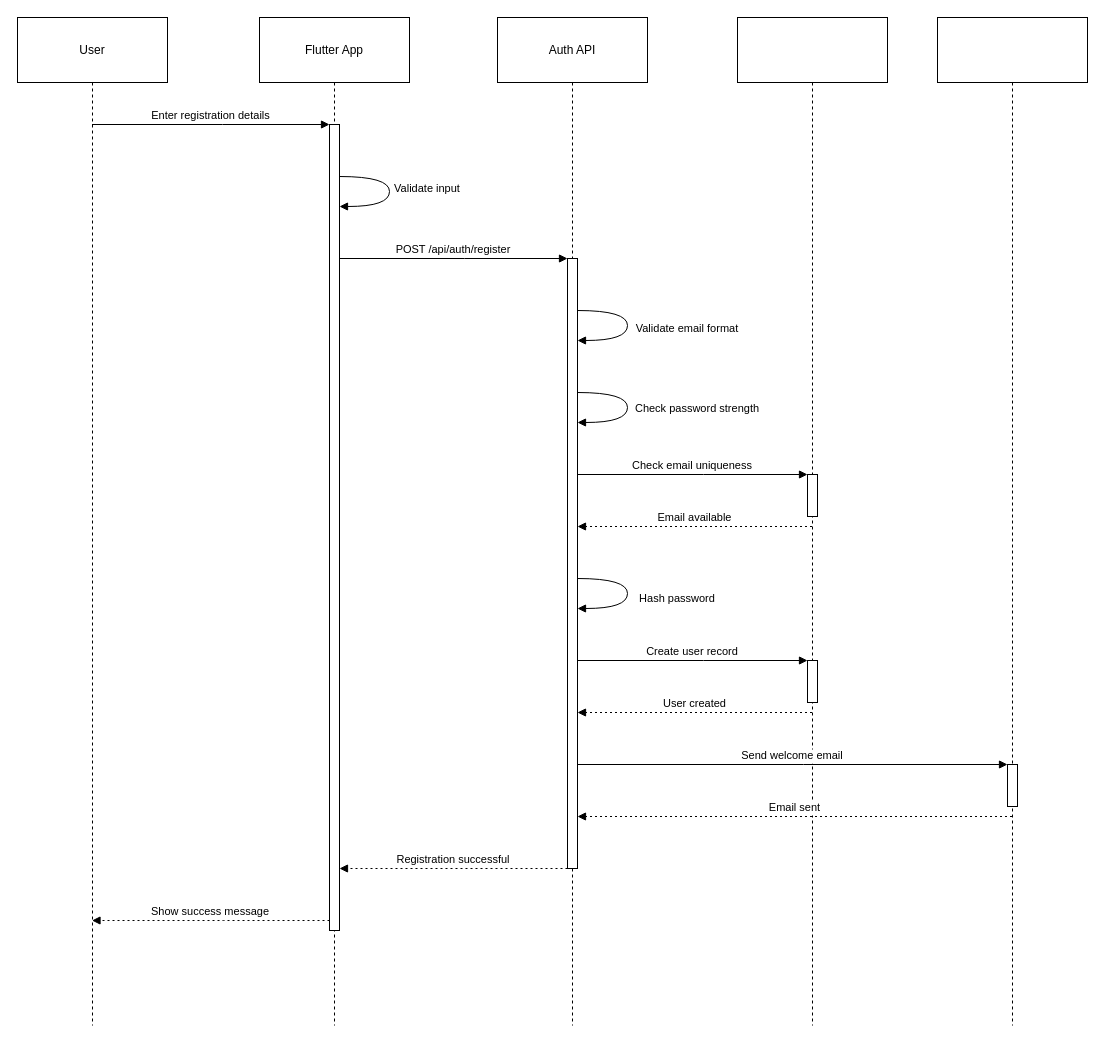
Some shapes in this 1105 by 1043 pixel diagram are drawn without their labels. Here are the shapes that lost their labels. From the top down, the box of each, then its label:
(736, 16, 888, 1026): Database
(936, 16, 1088, 1026): Email Service
